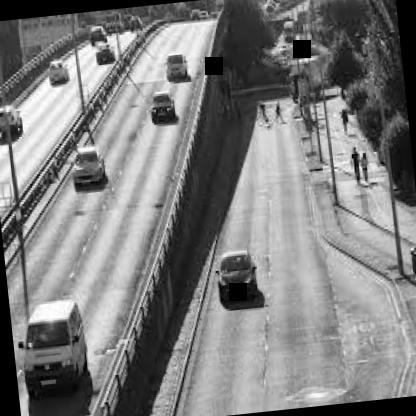car: (10, 282, 94, 406), (204, 242, 284, 320), (69, 137, 110, 192), (140, 81, 180, 134), (156, 47, 202, 87), (42, 51, 78, 94), (87, 34, 122, 70), (0, 100, 26, 144)
